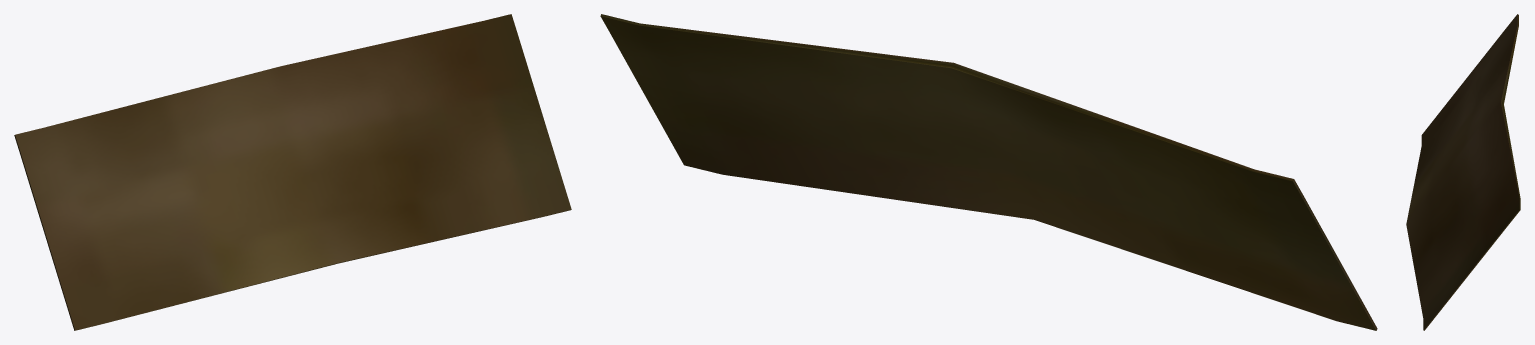
File: Ventana.obj
The picture shows the model from 3 angles, left to right: view 1: azimuth 30°, elevation 25°; view 2: azimuth 150°, elevation 25°; view 3: azimuth 270°, elevation 25°; orthographic projection. The views are drawn at different scales.
Parts seen in each view (by area): view 1: pCube10; view 2: pCube10; view 3: pCube10.
Boxes of the visible parts, bbox=[...] form: pCube10: bbox=[14, 14, 571, 330]; pCube10: bbox=[600, 14, 1377, 330]; pCube10: bbox=[1406, 14, 1520, 330].
Bounding box in the file's own units: 4.61 × 1.49 × 1.15.
1 material, 1 textured.
